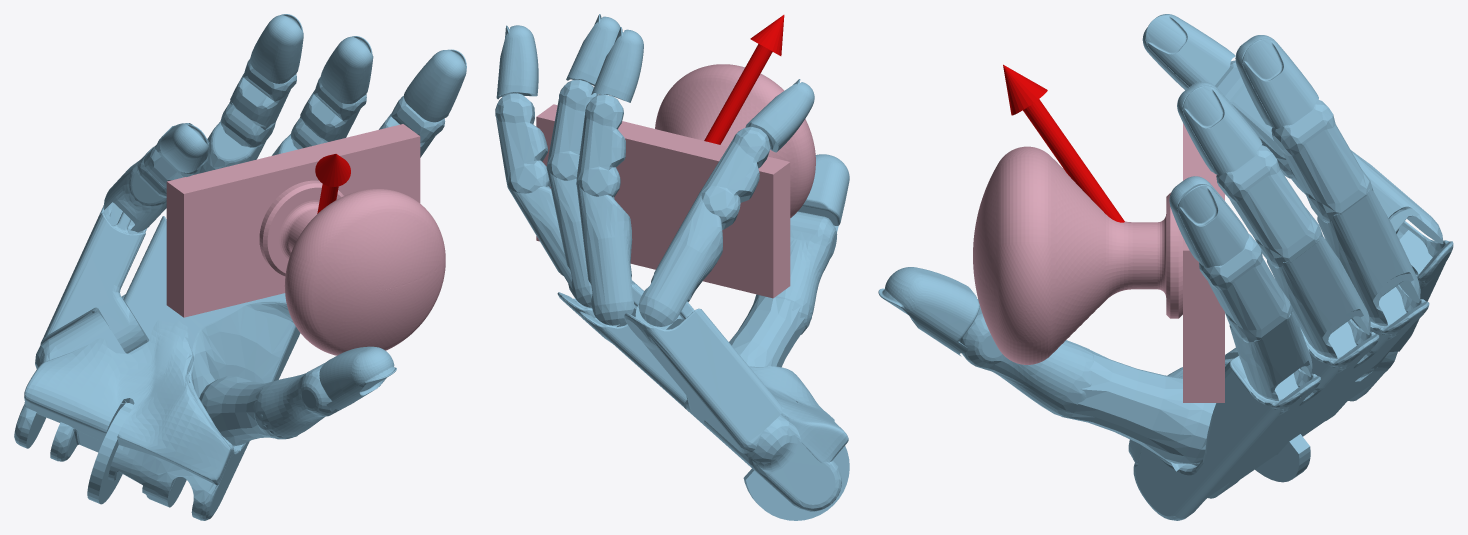
3 renders of one model, left to right at view 1: azimuth 30°, elevation 25°; view 2: azimuth 150°, elevation 25°; view 3: azimuth 270°, elevation 25°, orthographic. The views are drawn at different scales.
Parts seen in each view (by area): view 1: world, door_knob.stl; view 2: world, door_knob.stl; view 3: world, door_knob.stl.
Boxes of the visible parts, box(x1,y1,x2,y2) form: world: box(14, 14, 466, 520); door_knob.stl: box(166, 124, 445, 355); world: box(495, 14, 849, 520); door_knob.stl: box(536, 64, 815, 298); world: box(878, 14, 1453, 520); door_knob.stl: box(973, 123, 1224, 402).
Size of the model in its own units: 0.1654 by 0.1808 by 0.1711.
